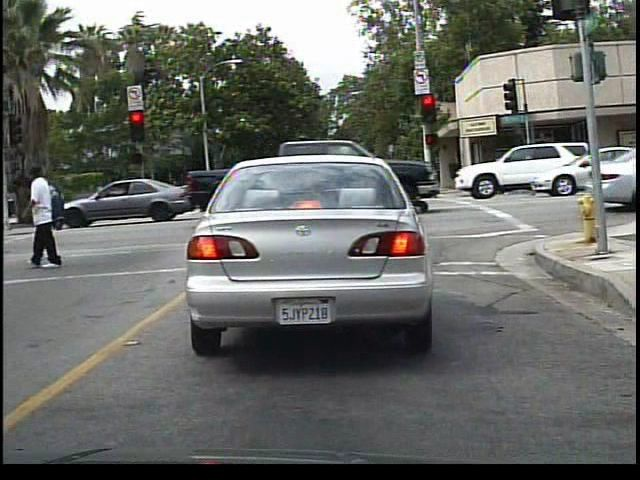person: (22, 164, 77, 271)
